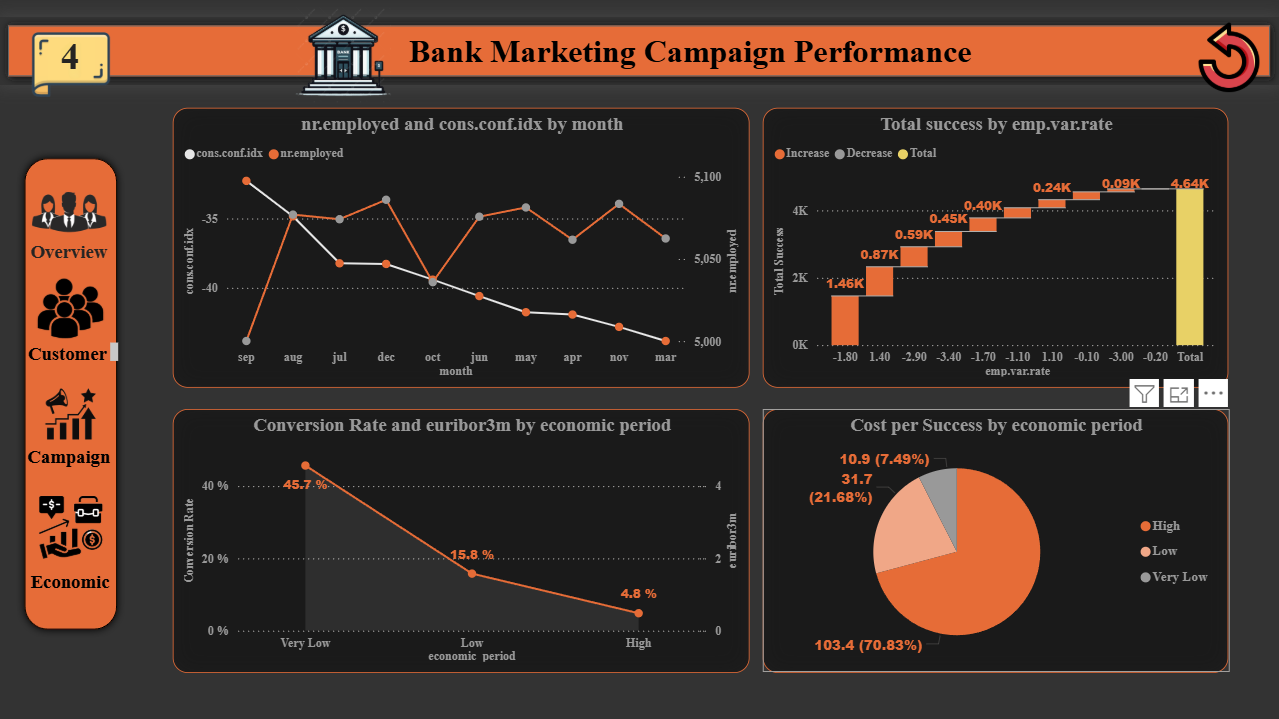

What the dashboard file says about the page in this screenshot:
{"tool":"powerbi","page":{"name":"Economic","canvas":[1280,720],"ordinal":3},"visuals":[{"type":"group","id":"g1","title":"Group 1","box":[0,0,1280,141.2],"z":0},{"type":"shape","box":[16.9,150.8,108.6,487.4],"z":0,"group":"g2"},{"type":"textbox","box":[21.4,237.2,97.1,41.4],"z":1000,"group":"g2"},{"type":"lineChart","title":"Conversion Rate and  euribor3m by economic period","fields":{"Category":["DimEconomic.economic_period"],"Y":["BM-Measures.Conversion Rate"],"Y2":["Avg(DimEconomic.euribor3m)"]},"box":[174.3,410,577.1,264.3],"z":1000},{"type":"shape","box":[0,18.1,1280,68.8],"z":1500,"group":"g1"},{"type":"image","box":[0,0,143.6,141.2],"z":2000,"group":"g1"},{"type":"waterfallChart","title":"Total success by emp.var.rate","fields":{"Category":["DimEconomic.emp.var.rate"],"Y":["BM-Measures.Total Success"]},"box":[764.3,108.6,465.7,280],"z":2000},{"type":"image","box":[21.7,166.5,97.7,94.1],"z":2000,"group":"g2"},{"type":"textbox","box":[35,31.4,72.4,55.5],"z":2500,"group":"g1"},{"type":"image","box":[290.8,0,106.2,109.8],"z":3000,"group":"g1"},{"type":"areaChart","title":"nr.employed and cons.conf.idx by month","fields":{"Category":["DimDate.month"],"Y":["Avg(DimEconomic.cons.conf.idx)"],"Y2":["Avg(DimEconomic.nr.employed)"]},"box":[174.3,108.6,577.1,280],"z":3000},{"type":"image","box":[7.2,265.9,127.9,85.7],"z":3000,"group":"g2"},{"type":"textbox","box":[405.4,29,589.9,49.5],"z":3500,"group":"g1"},{"type":"image","box":[1179.9,19.3,100.1,79.6],"z":4000,"group":"g1"},{"type":"textbox","box":[20,338.6,104.3,30],"z":4000,"group":"g2"},{"type":"pieChart","title":"Cost per Success by economic period","fields":{"Category":["DimEconomic.economic_period"],"Y":["BM-Measures.Cost per Success"]},"box":[764.3,410,465.7,264.3],"z":4000},{"type":"group","id":"g2","title":"Group 2","box":[0,150.8,143.6,487.4],"z":5000},{"type":"image","box":[0,351.6,143.6,115.8],"z":5000,"group":"g2"},{"type":"textbox","box":[15.7,441.5,107.1,35.7],"z":6000,"group":"g2"},{"type":"textbox","box":[22.9,567.2,97.1,40],"z":7000,"group":"g2"},{"type":"image","box":[33.8,490.3,76,79.6],"z":8000,"group":"g2"}]}

Visuals, with their boxes in screenshot pixels (x1, y1, x2, y2), scaled from the page's 1280x720 canvas onto the 1279x719 screenshot:
"Group 1" group: (left=0, top=0, right=1278, bottom=141)
shape: (left=17, top=151, right=125, bottom=637)
textbox: (left=21, top=237, right=118, bottom=278)
"Conversion Rate and  euribor3m by economic period" lineChart: (left=174, top=409, right=751, bottom=673)
shape: (left=0, top=18, right=1278, bottom=87)
image: (left=0, top=0, right=143, bottom=141)
"Total success by emp.var.rate" waterfallChart: (left=764, top=108, right=1229, bottom=388)
image: (left=22, top=166, right=119, bottom=260)
textbox: (left=35, top=31, right=107, bottom=87)
image: (left=291, top=0, right=397, bottom=110)
"nr.employed and cons.conf.idx by month" areaChart: (left=174, top=108, right=751, bottom=388)
image: (left=7, top=266, right=135, bottom=351)
textbox: (left=405, top=29, right=995, bottom=78)
image: (left=1179, top=19, right=1278, bottom=99)
textbox: (left=20, top=338, right=124, bottom=368)
"Cost per Success by economic period" pieChart: (left=764, top=409, right=1229, bottom=673)
"Group 2" group: (left=0, top=151, right=143, bottom=637)
image: (left=0, top=351, right=143, bottom=467)
textbox: (left=16, top=441, right=123, bottom=477)
textbox: (left=23, top=566, right=120, bottom=606)
image: (left=34, top=490, right=110, bottom=569)
